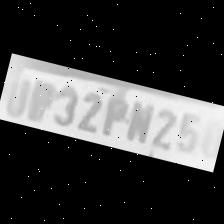2: (73, 86, 107, 134), (146, 102, 180, 150)
3: (47, 80, 82, 128)
5: (171, 106, 205, 154)
N: (120, 96, 154, 144)
P: (22, 73, 56, 123), (97, 90, 128, 138)
U: (0, 69, 31, 117)
